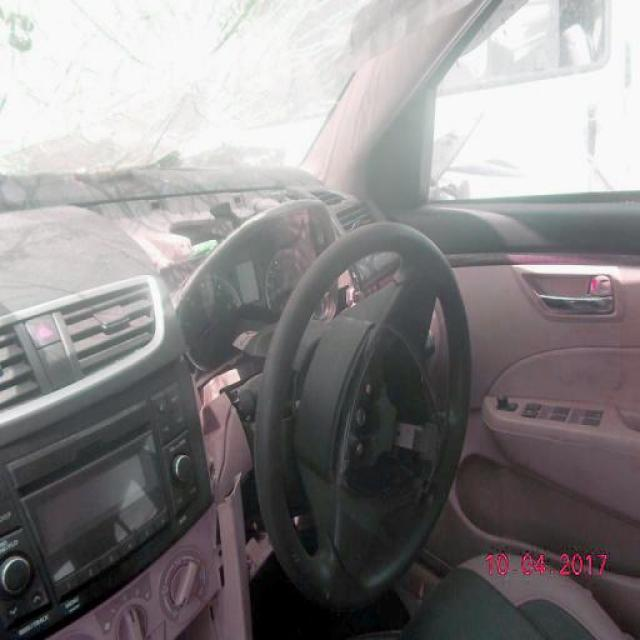Car-Damage: (1, 2, 321, 147)
